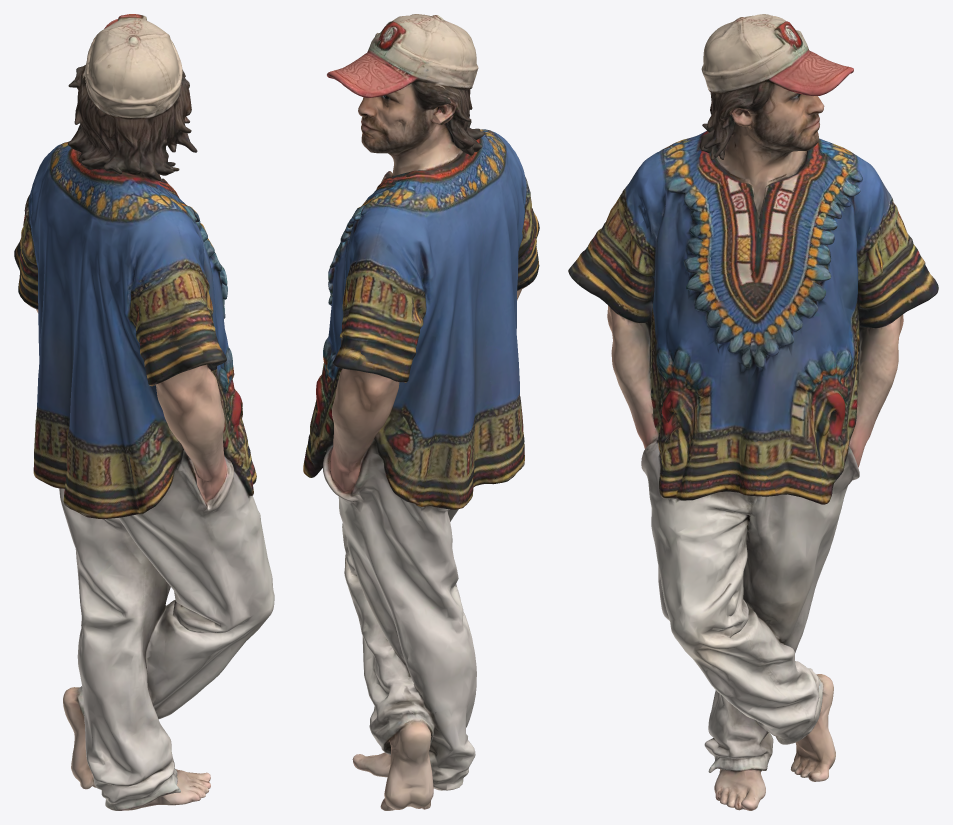
Rendered from iver-09.glb.
The picture shows the model from 3 angles, left to right: view 1: azimuth 30°, elevation 25°; view 2: azimuth 150°, elevation 25°; view 3: azimuth 270°, elevation 25°; orthographic projection.
Parts seen in each view (by area): view 1: tripo_node_6d3369ce-c0db-42ed-bc48-9e56823bd6c2; view 2: tripo_node_6d3369ce-c0db-42ed-bc48-9e56823bd6c2; view 3: tripo_node_6d3369ce-c0db-42ed-bc48-9e56823bd6c2.
Part boxes in pixels (box(x1,y1,x2,y2)): tripo_node_6d3369ce-c0db-42ed-bc48-9e56823bd6c2: box(14, 14, 274, 810); tripo_node_6d3369ce-c0db-42ed-bc48-9e56823bd6c2: box(303, 14, 539, 810); tripo_node_6d3369ce-c0db-42ed-bc48-9e56823bd6c2: box(568, 14, 938, 810).
Bounding box in the file's own units: 0.2498 × 0.9997 × 0.4416.
Materials: 1 (1 with a texture image).
